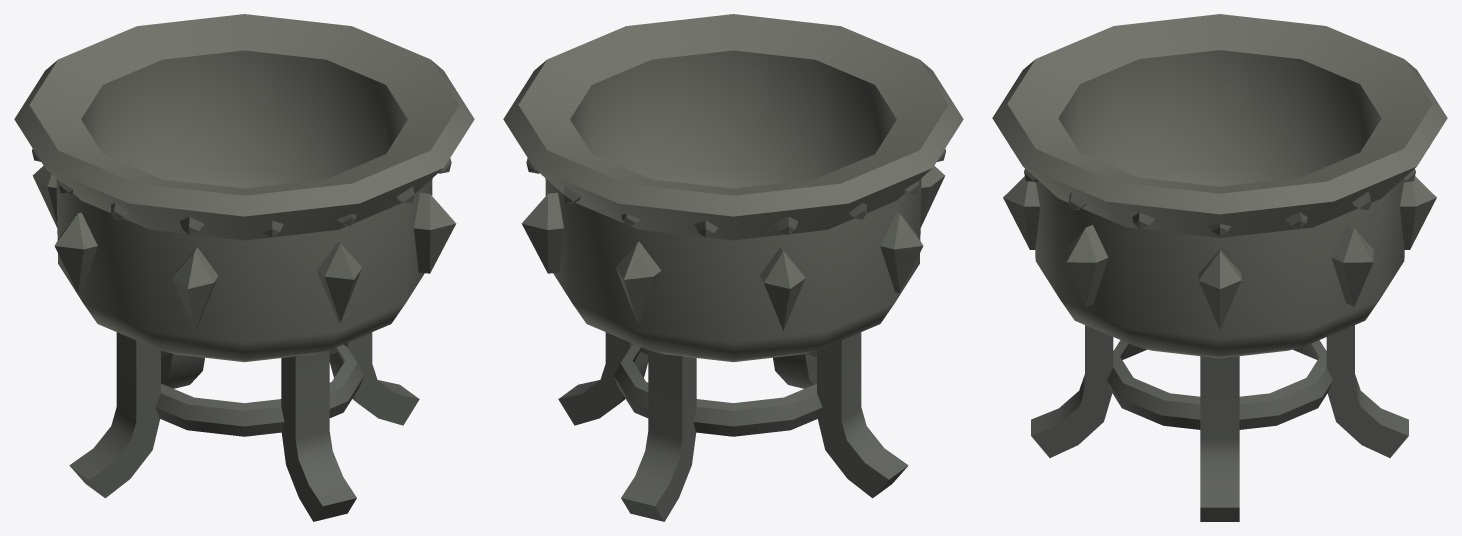
Rendered from Brazier_A.fbx.
3 renders of one model, left to right at view 1: azimuth 30°, elevation 25°; view 2: azimuth 150°, elevation 25°; view 3: azimuth 270°, elevation 25°, orthographic.
Parts seen in each view (by area): view 1: Brazier_A; view 2: Brazier_A; view 3: Brazier_A.
Boxes of the visible parts, left/top/right/bottom form: Brazier_A: left=14, top=14, right=474, bottom=521; Brazier_A: left=503, top=14, right=963, bottom=521; Brazier_A: left=992, top=14, right=1447, bottom=521.
Bounding box in the file's own units: 89.02 × 74.65 × 89.02.
